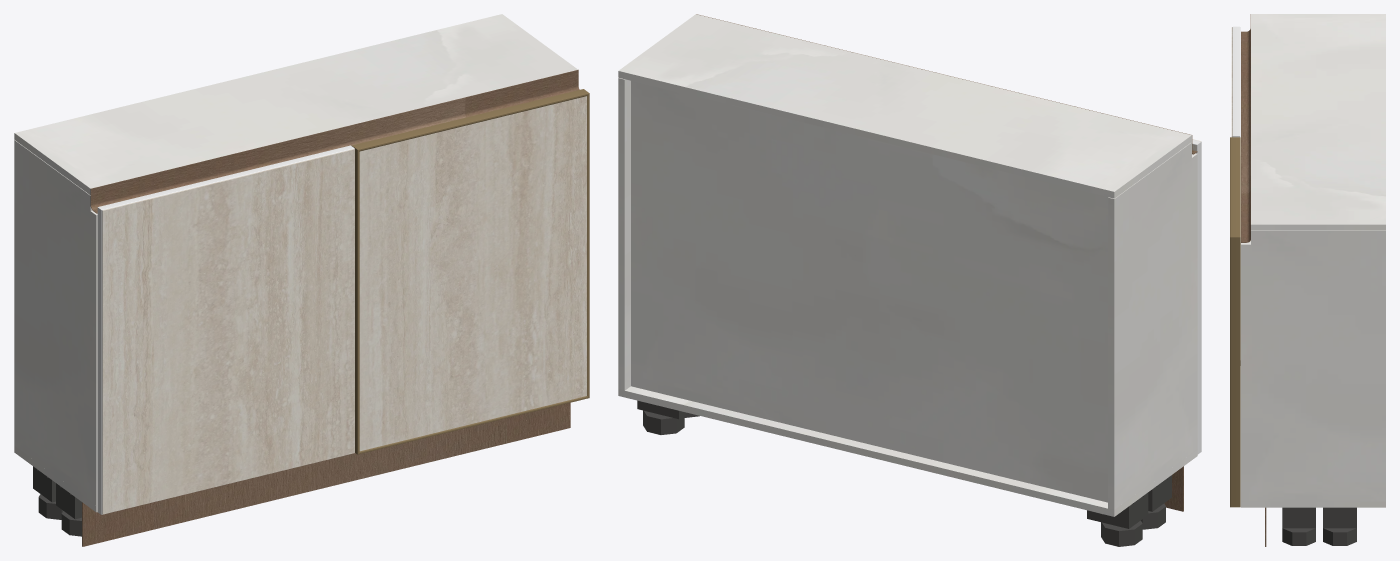
Rendered from BBL-SH-CJ-ST-1SX-LHS-XXX-1150-720-336-15.glb.
3 renders of one model, left to right at view 1: azimuth 30°, elevation 25°; view 2: azimuth 150°, elevation 25°; view 3: azimuth 270°, elevation 25°, orthographic. The views are drawn at different scales.
Visible parts, largest first — view 1: TP_node_3, Object_node_11, TP_node_1, TP_node, Object_node_13, ExtrSplGeo, Extrusion, ALU PROF FOR SHUTTER 851P IMP_node, Extrusion_node_1, ALU PROF FOR SHUTTER 851P IMP_node_1, Extrusion_node, Extrusion_node_0; view 2: TP_node_4, TP_node_1, TP_node, TP, TP_node_0, ALU PROF FOR SHUTTER 851P IMP_node, Plate, Foot, Foot_node; view 3: TP_node_0, TP_node_1, Extrusion_node, ExtrSplGeo, Extrusion, TP, ALU PROF FOR SHUTTER 851P IMP_node_1, Plate_node, Plate_node_1, Foot_node, Foot_node_1, TP_node_3 (+1 smaller).
Boxes of the visible parts, x1=… form: TP_node_3: x1=102, y1=149, x2=354, y2=514; Object_node_11: x1=359, y1=96, x2=586, y2=451; TP_node_1: x1=14, y1=14, x2=577, y2=194; TP_node: x1=14, y1=140, x2=97, y2=505; Object_node_13: x1=82, y1=402, x2=570, y2=546; ExtrSplGeo: x1=90, y1=69, x2=579, y2=213; Extrusion: x1=352, y1=89, x2=589, y2=151; ALU PROF FOR SHUTTER 851P IMP_node: x1=97, y1=207, x2=102, y2=514; Extrusion_node_1: x1=352, y1=146, x2=359, y2=454; ALU PROF FOR SHUTTER 851P IMP_node_1: x1=98, y1=145, x2=354, y2=210; Extrusion_node: x1=587, y1=93, x2=589, y2=397; Extrusion_node_0: x1=358, y1=396, x2=588, y2=454; TP_node_4: x1=631, y1=81, x2=1107, y2=502; TP_node_1: x1=618, y1=14, x2=1191, y2=198; TP_node: x1=1108, y1=142, x2=1197, y2=509; TP: x1=618, y1=386, x2=1197, y2=516; TP_node_0: x1=618, y1=78, x2=630, y2=390; ALU PROF FOR SHUTTER 851P IMP_node: x1=1196, y1=142, x2=1201, y2=454; Plate: x1=1087, y1=492, x2=1148, y2=528; Foot: x1=1101, y1=520, x2=1142, y2=546; Foot_node: x1=643, y1=410, x2=684, y2=434; TP_node_0: x1=1241, y1=230, x2=1385, y2=501; TP_node_1: x1=1251, y1=14, x2=1385, y2=230; Extrusion_node: x1=1230, y1=237, x2=1240, y2=507; ExtrSplGeo: x1=1241, y1=14, x2=1250, y2=242; Extrusion: x1=1230, y1=137, x2=1240, y2=237; TP: x1=1241, y1=501, x2=1385, y2=507; ALU PROF FOR SHUTTER 851P IMP_node_1: x1=1232, y1=26, x2=1240, y2=135; Plate_node: x1=1323, y1=507, x2=1356, y2=528; Plate_node_1: x1=1282, y1=507, x2=1315, y2=528; Foot_node: x1=1323, y1=528, x2=1356, y2=545; Foot_node_1: x1=1282, y1=528, x2=1315, y2=545; TP_node_3: x1=1231, y1=27, x2=1232, y2=137.
Size of what is drawn, in the model's own units: 1.15 by 0.82 by 0.3594.
Materials: 7 (3 with a texture image).
